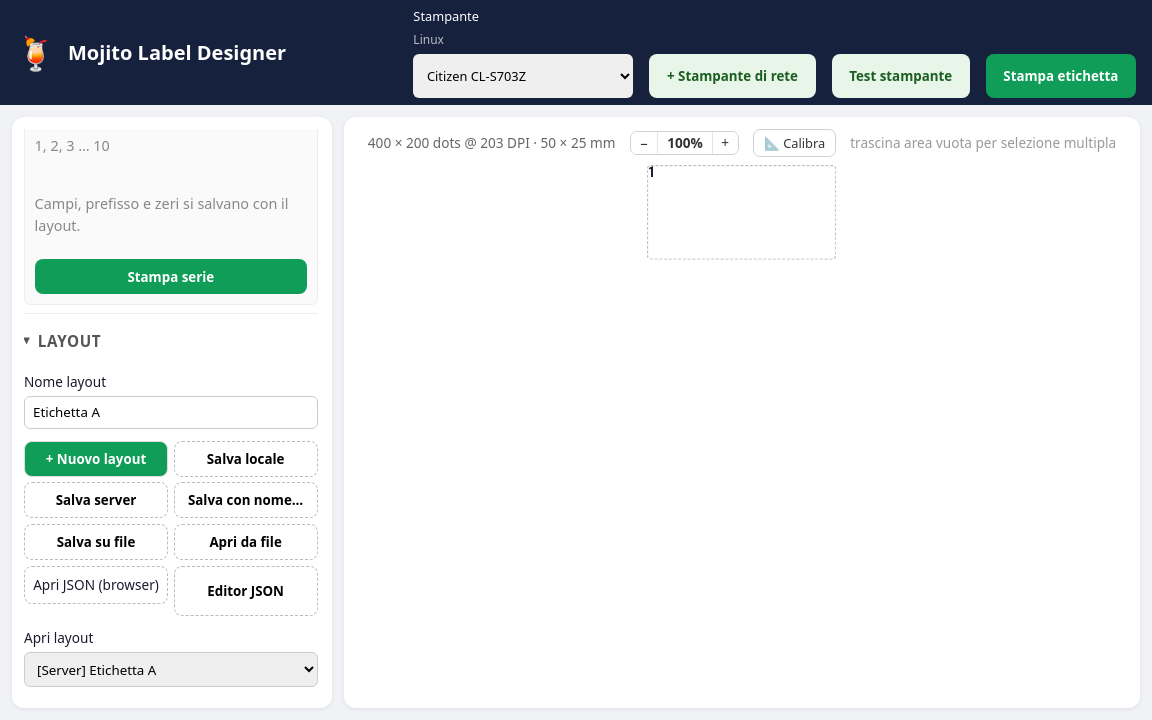
LabelDesigner — salvataggio senza sovrascrivere › "Salva server" › se il nome è cambiato chiede prima di perdere l'originale, e su Annulla non salva
This screenshot has width=1152, height=720.
(page scrolled)
Replace the text in the field labelled "Nome layout" with "Etichetta B" at (171, 412), box x1=24 y1=396 x2=318 y2=429
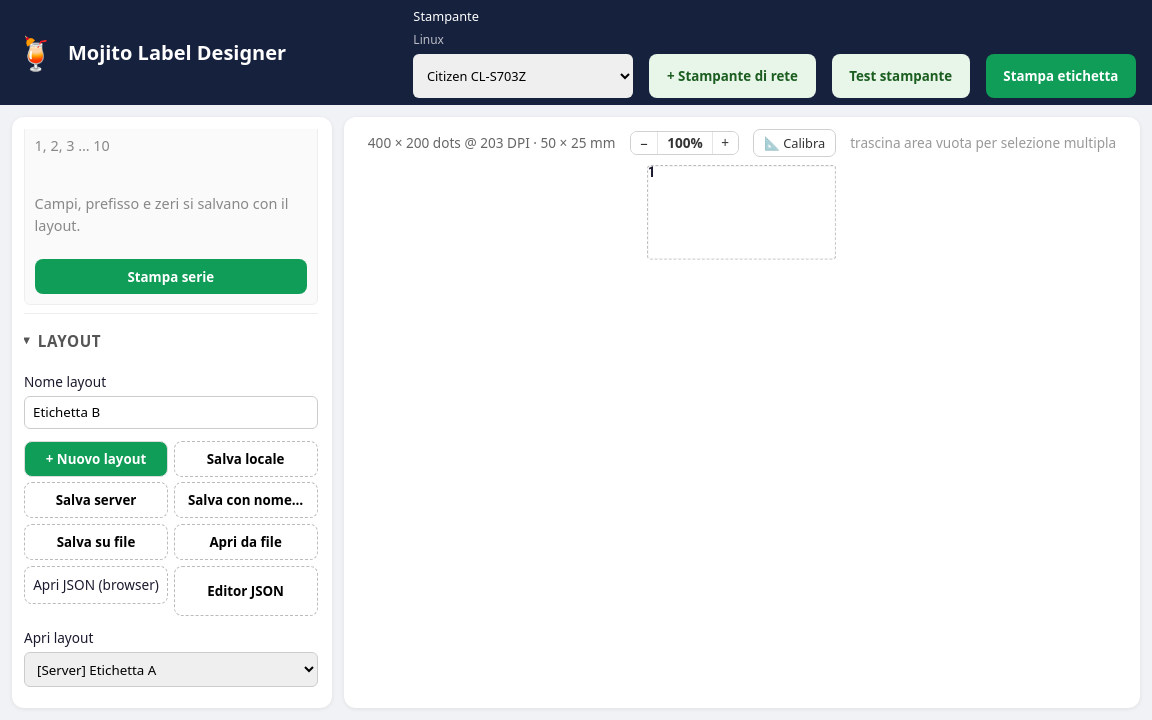
Click the button "Salva server" at (96, 500), box x1=24 y1=482 x2=168 y2=518
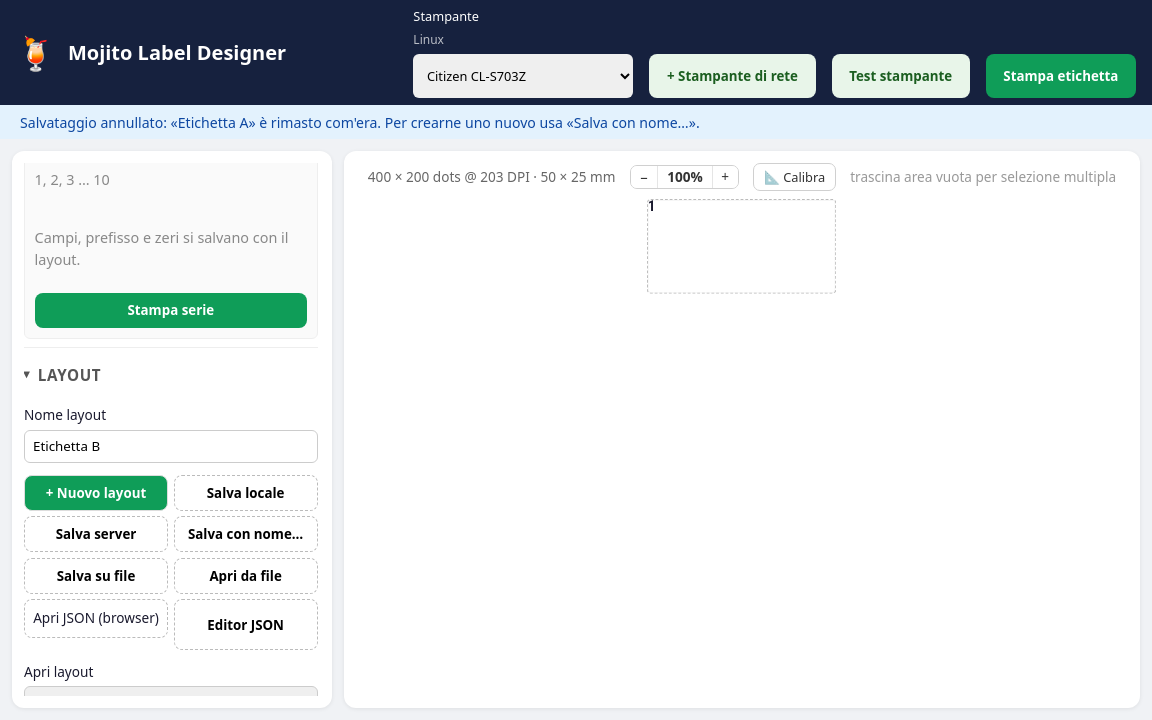
Expected: the element with class "status" shows "Salva con nome", x1=20 y1=112 x2=700 y2=132
